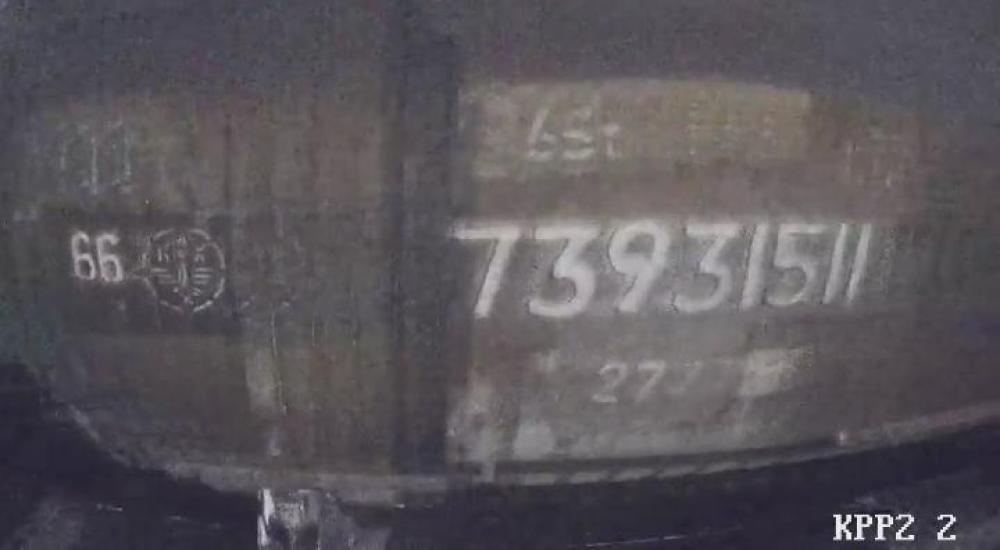Wagon-number: (444, 218, 872, 320)
